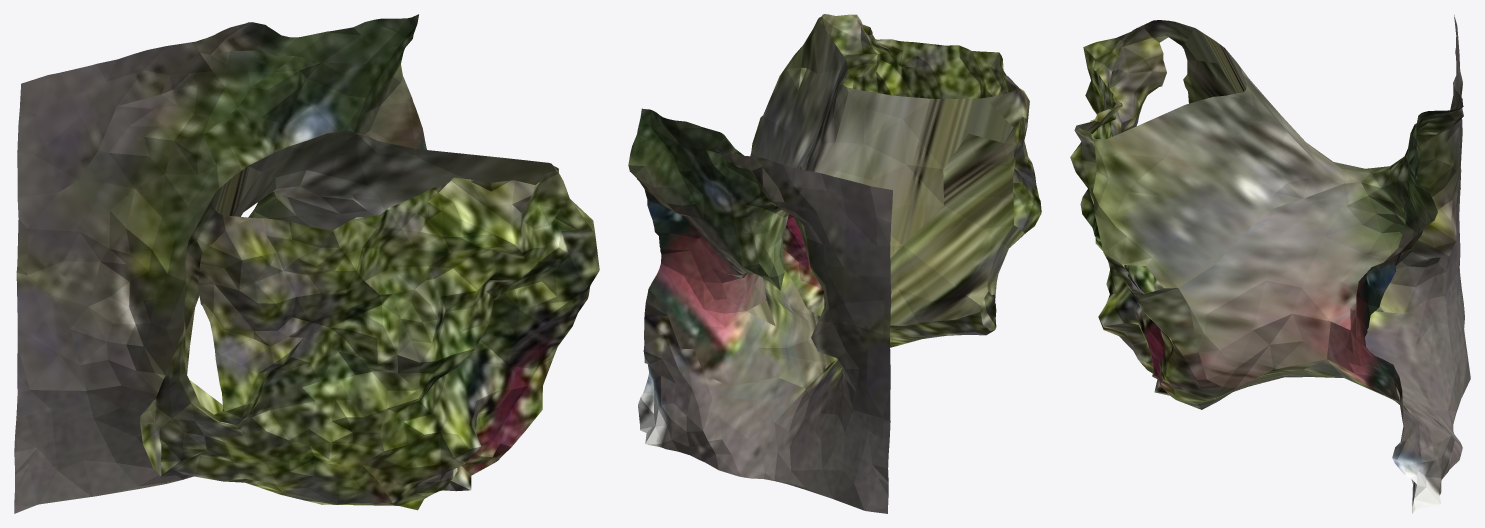
File: tile_5_11_1_tex.obj
3 renders of one model, left to right at view 1: azimuth 30°, elevation 25°; view 2: azimuth 150°, elevation 25°; view 3: azimuth 270°, elevation 25°, orthographic. The views are drawn at different scales.
Visible parts, largest first — view 1: obj_0; view 2: obj_0; view 3: obj_0.
Part boxes in pixels (<box>): obj_0: <box>14,14,599,513</box>; obj_0: <box>628,14,1041,513</box>; obj_0: <box>1070,15,1470,513</box>.
Bounding box in the file's own units: 5.01 × 5.64 × 5.79.
1 material, 1 textured.
